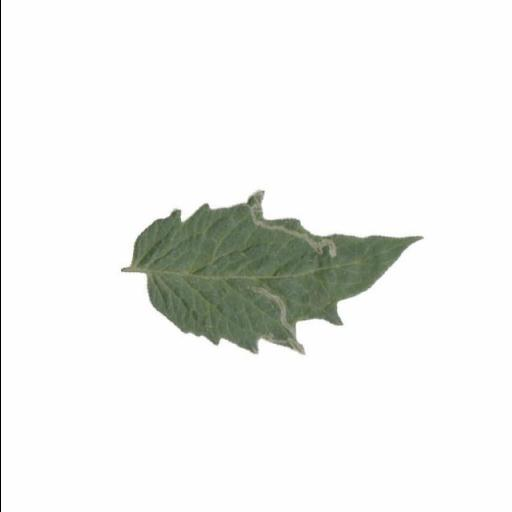Leaf Miner: (128, 191, 420, 359)
